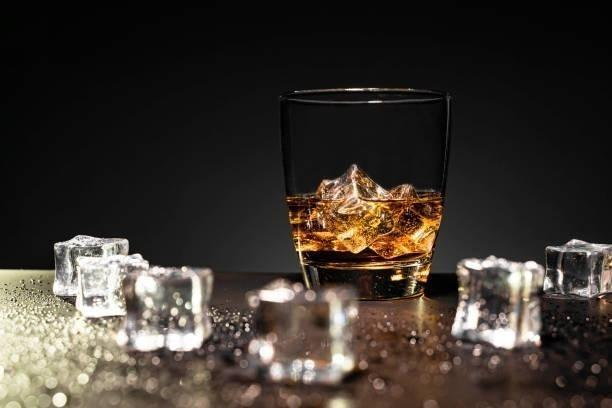glass-normal: (277, 84, 454, 302)
